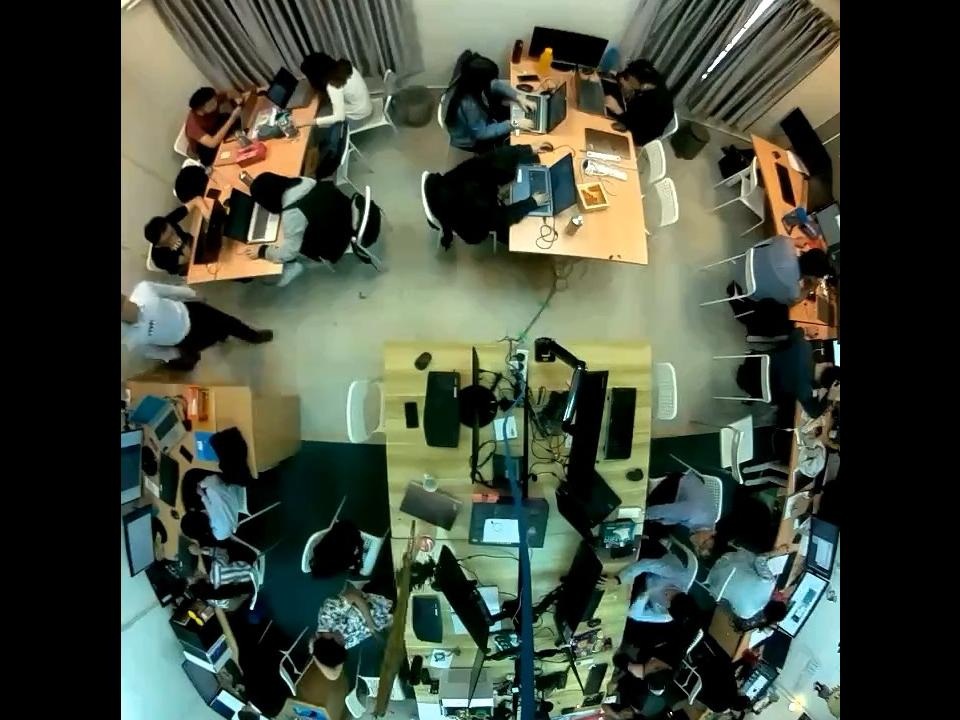name-tag: (146, 318, 155, 338)
